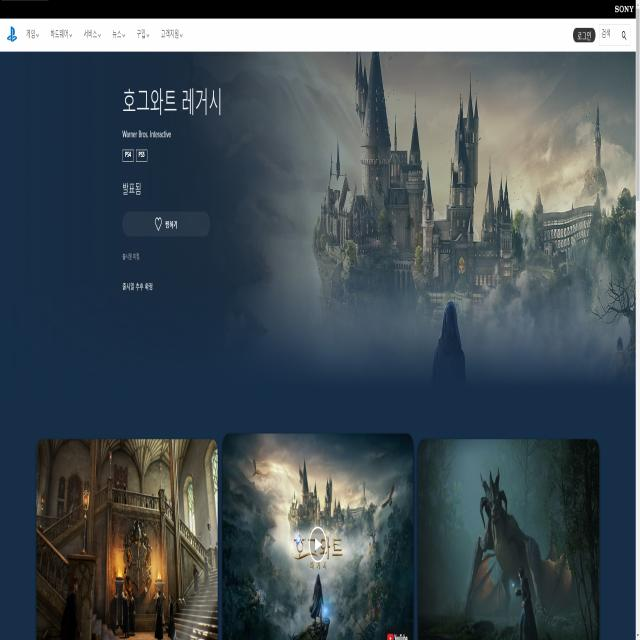menu-bar: (570, 22, 634, 50)
search: (596, 22, 634, 47)
tab-bar: (5, 22, 186, 46)
